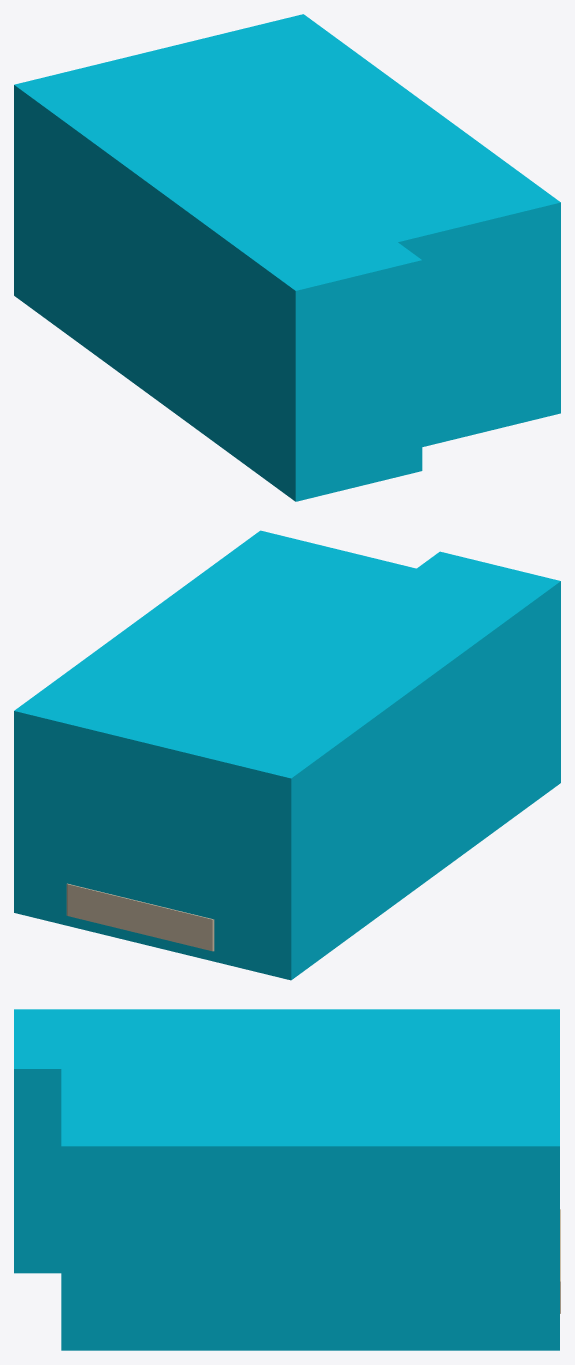
Rendered from furnishingelement-1981-x-2032mm-king.glb.
The picture shows the model from 3 angles, top to bottom: view 1: azimuth 30°, elevation 25°; view 2: azimuth 150°, elevation 25°; view 3: azimuth 270°, elevation 25°; orthographic projection. The views are drawn at different scales.
Parts seen in each view (by area): view 1: 0BTBFw6f90Nfh9rP1dlXrc; view 2: 0BTBFw6f90Nfh9rP1dlXrc, 2OBrcmyk58NupXoVOHUtI8; view 3: 0BTBFw6f90Nfh9rP1dlXrc.
Boxes of the visible parts, x1,y1,x2,y2 form: 0BTBFw6f90Nfh9rP1dlXrc: [14, 14, 560, 501]; 0BTBFw6f90Nfh9rP1dlXrc: [14, 530, 560, 980]; 2OBrcmyk58NupXoVOHUtI8: [66, 883, 214, 951]; 0BTBFw6f90Nfh9rP1dlXrc: [14, 1009, 559, 1350].
Size of the model in its own units: 3.71 by 2.6 by 6.26.
